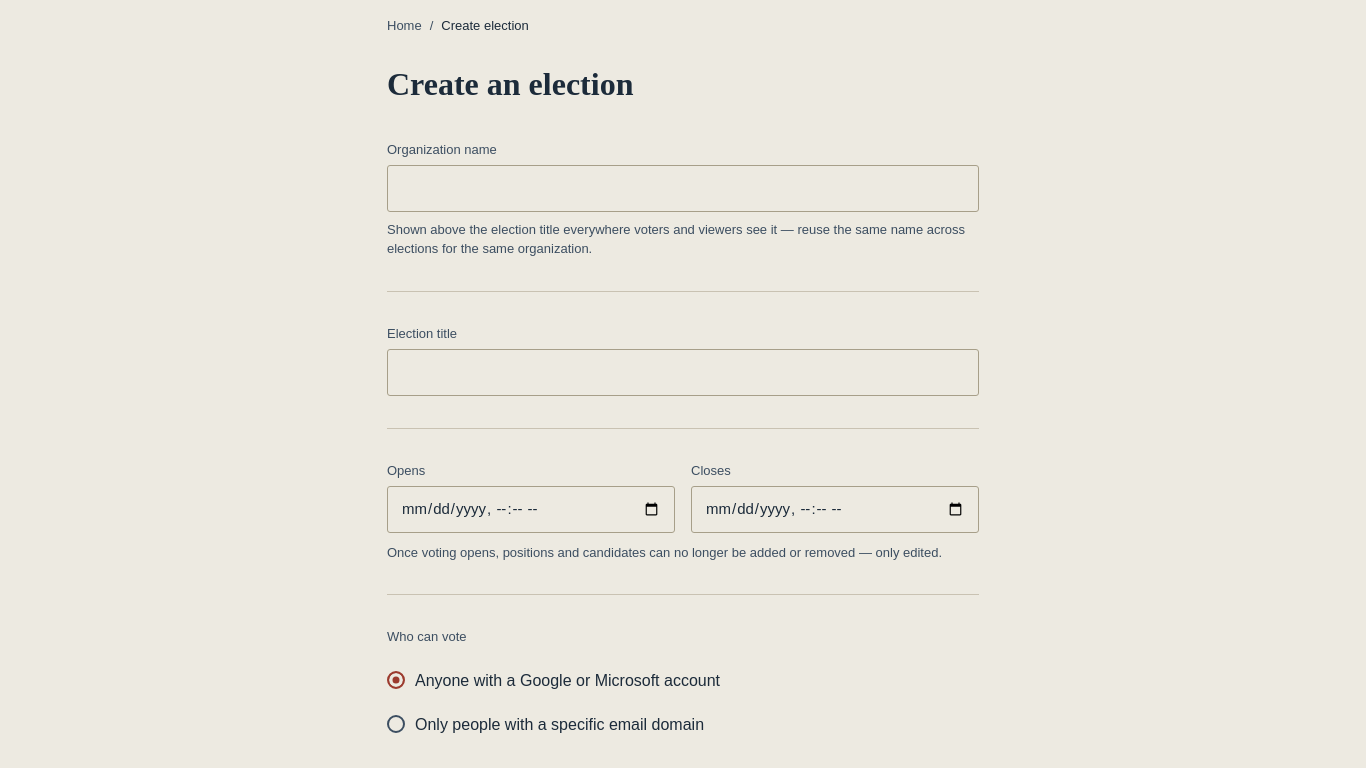
it: CreateElectionForm validation › blocks submit and names the missing field when the title is empty
Step 1. Type "Riverside Co-op" into the field labelled "Organization name" → point(683, 188), box [387,165,979,212]
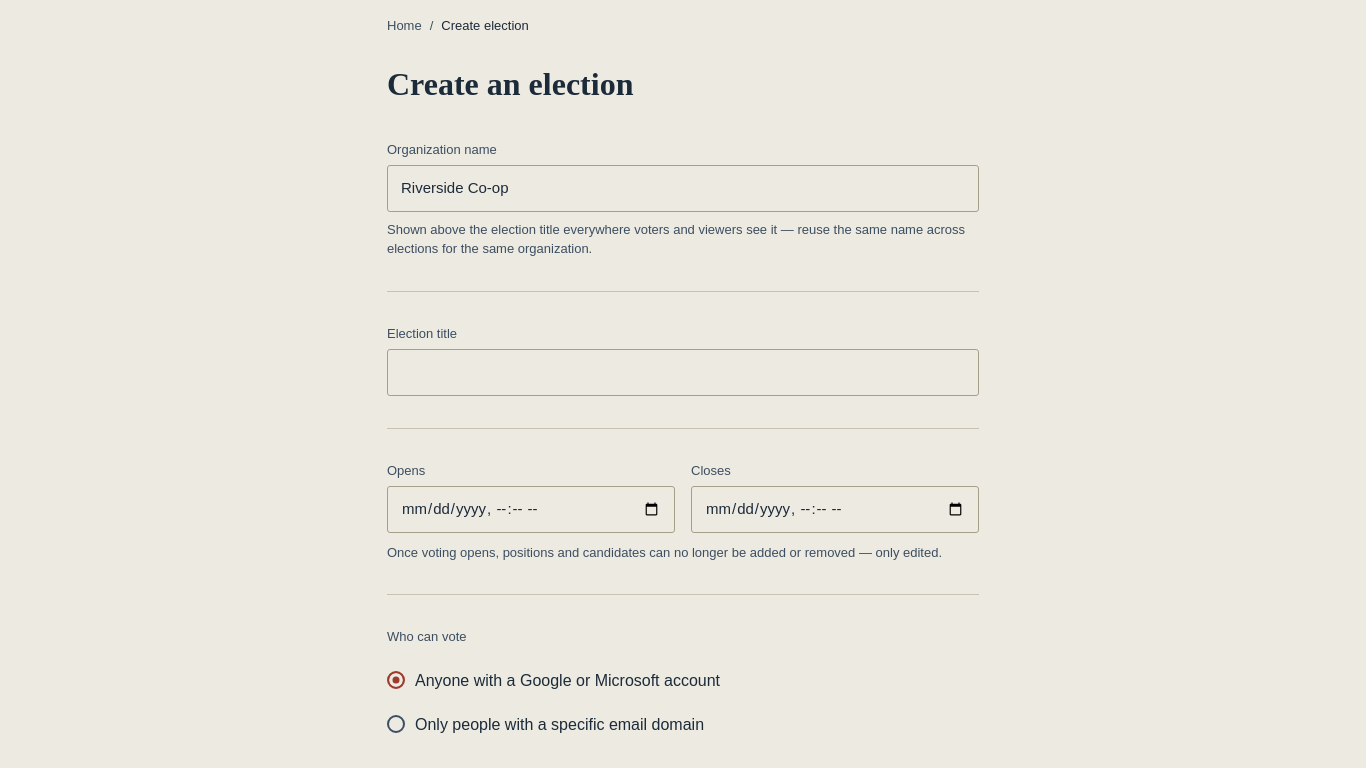
Step 2. Type "2099-01-01T09:00" into the field labelled "Opens" → point(531, 509), box [387,486,675,532]
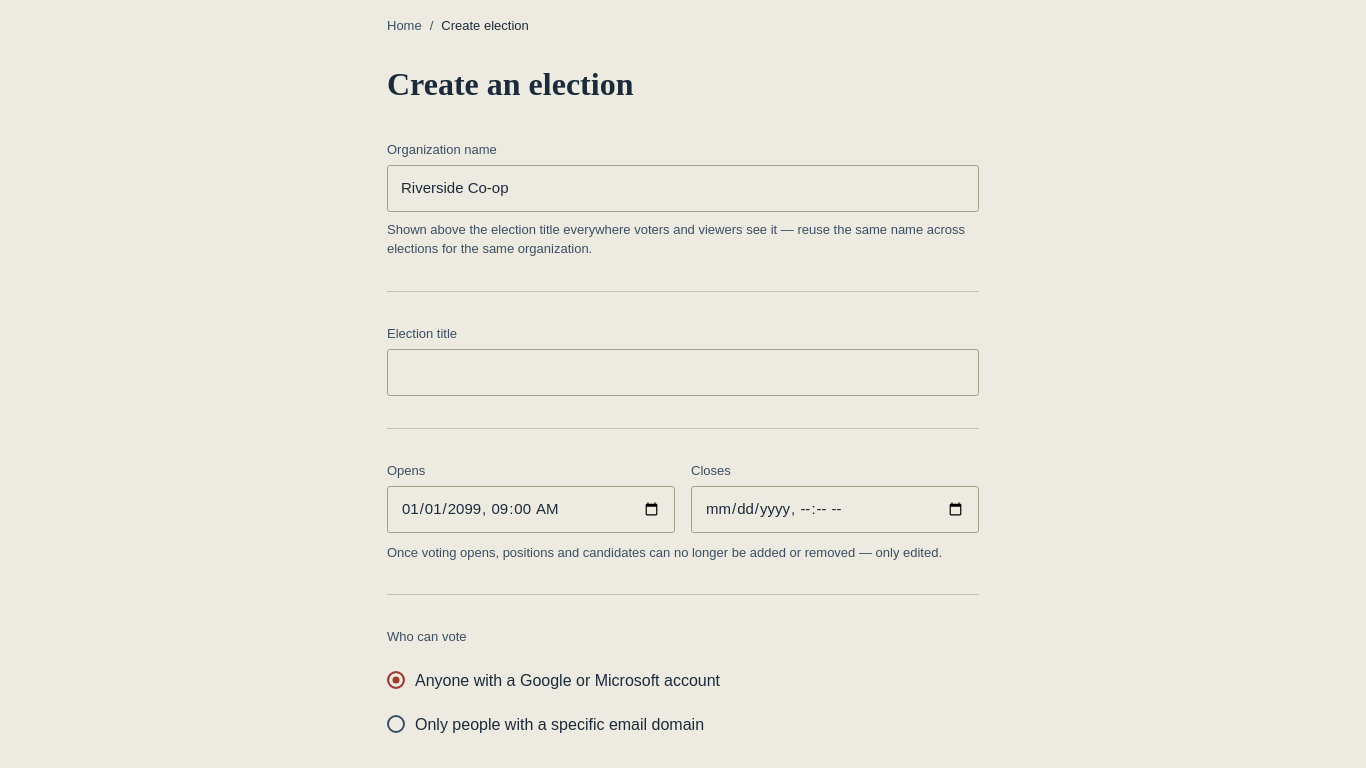
Step 3. Type "2099-01-15T17:00" into the field labelled "Closes" → point(835, 509), box [691,486,979,532]
(page scrolled)
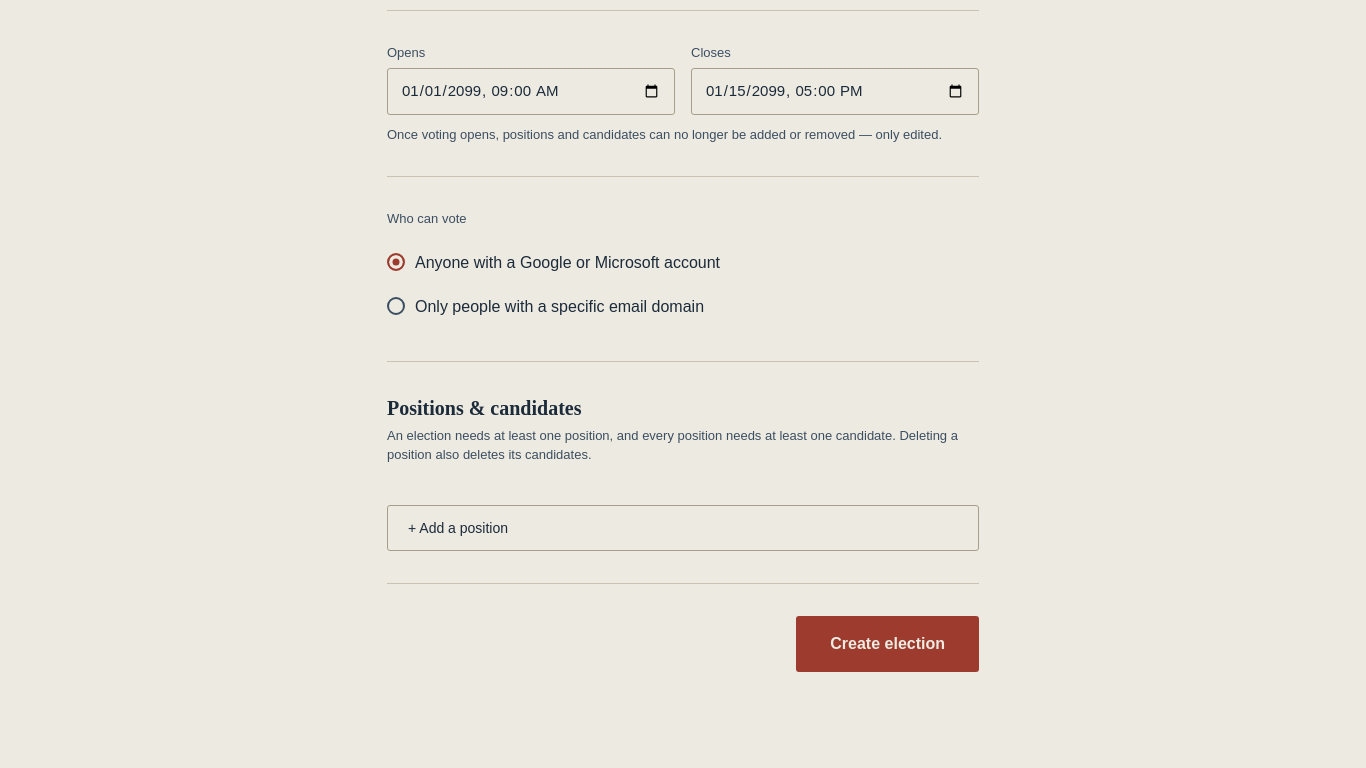
Step 4. Click the button "Create election" → point(888, 644), box [796,616,979,672]
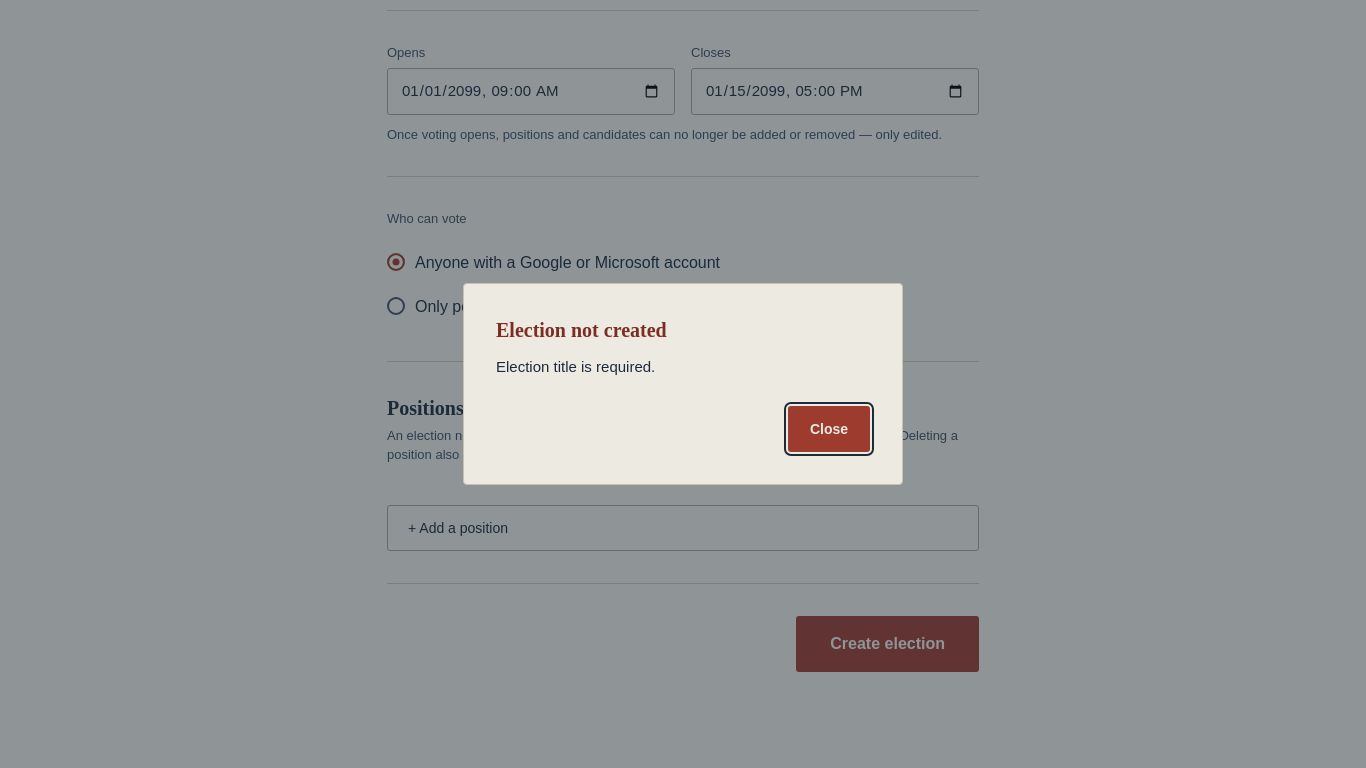
Check: the dialog shows "Election title is required.", box [496,358,655,375]
